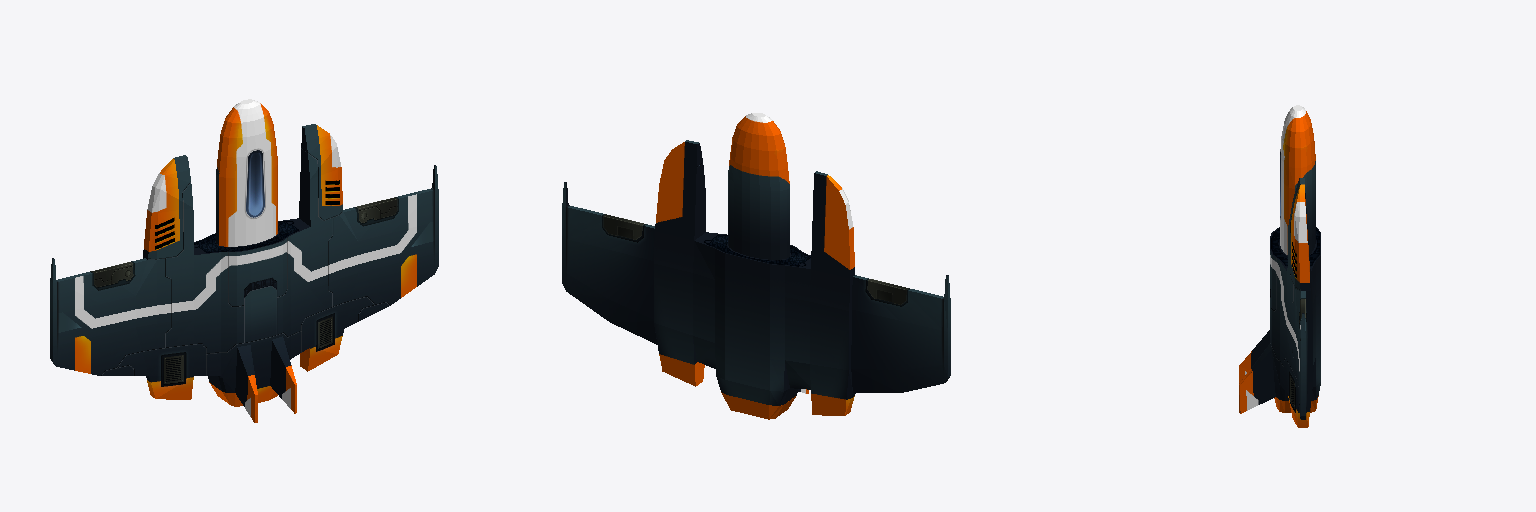
3 renders of one model, left to right at view 1: azimuth 30°, elevation 25°; view 2: azimuth 150°, elevation 25°; view 3: azimuth 270°, elevation 25°, orthographic.
Parts seen in each view (by area): view 1: Box001; view 2: Box001; view 3: Box001.
Part boxes in pixels (bbox=[...]): Box001: bbox=[50, 99, 438, 422]; Box001: bbox=[562, 113, 950, 419]; Box001: bbox=[1239, 105, 1320, 427].
Bounding box in the file's own units: 12.26 × 8.98 × 2.27.
Materials: 1 (1 with a texture image).